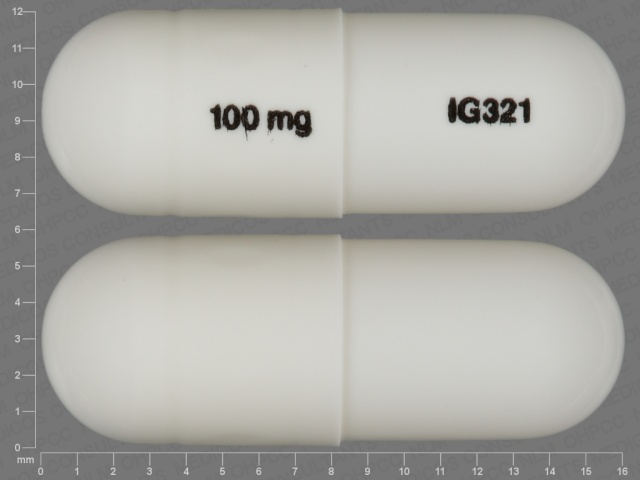0: (242, 100, 263, 135), (222, 101, 242, 134)
1: (519, 95, 536, 126), (208, 99, 222, 134)
2: (500, 97, 518, 128)
3: (482, 98, 499, 128)
G: (458, 94, 481, 127)
I: (443, 94, 457, 125)
capsule: (38, 5, 632, 221), (39, 230, 630, 447)
mg: (267, 103, 314, 141)
